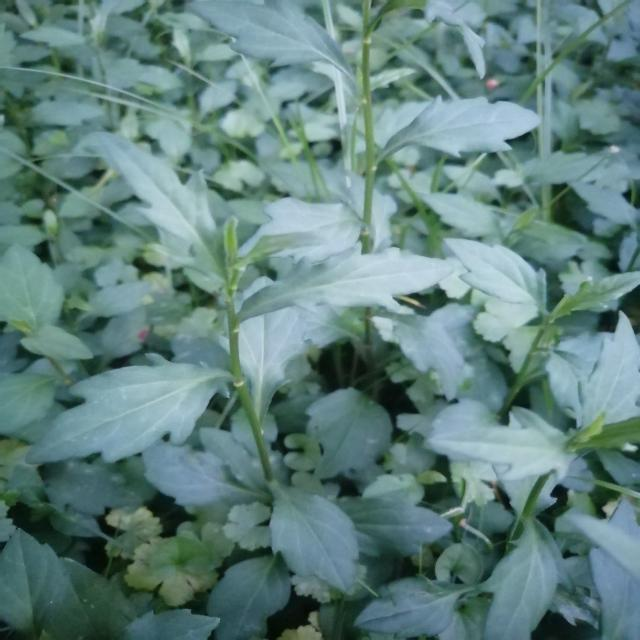Indian aster: (42, 172, 427, 575)
